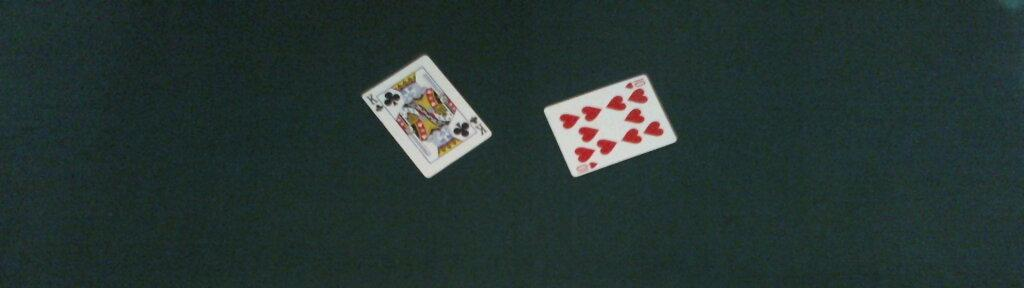king: (360, 55, 494, 180)
ten: (542, 73, 678, 179)
